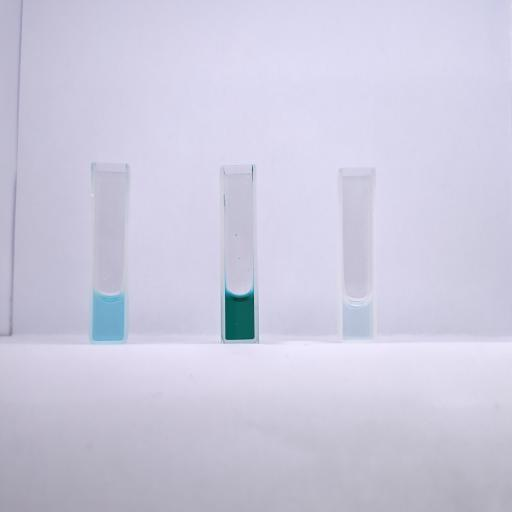cuvette: (217, 163, 261, 345), (88, 161, 131, 345), (336, 165, 379, 343)
liquid: (93, 290, 124, 340), (226, 289, 254, 339), (343, 295, 372, 339)
